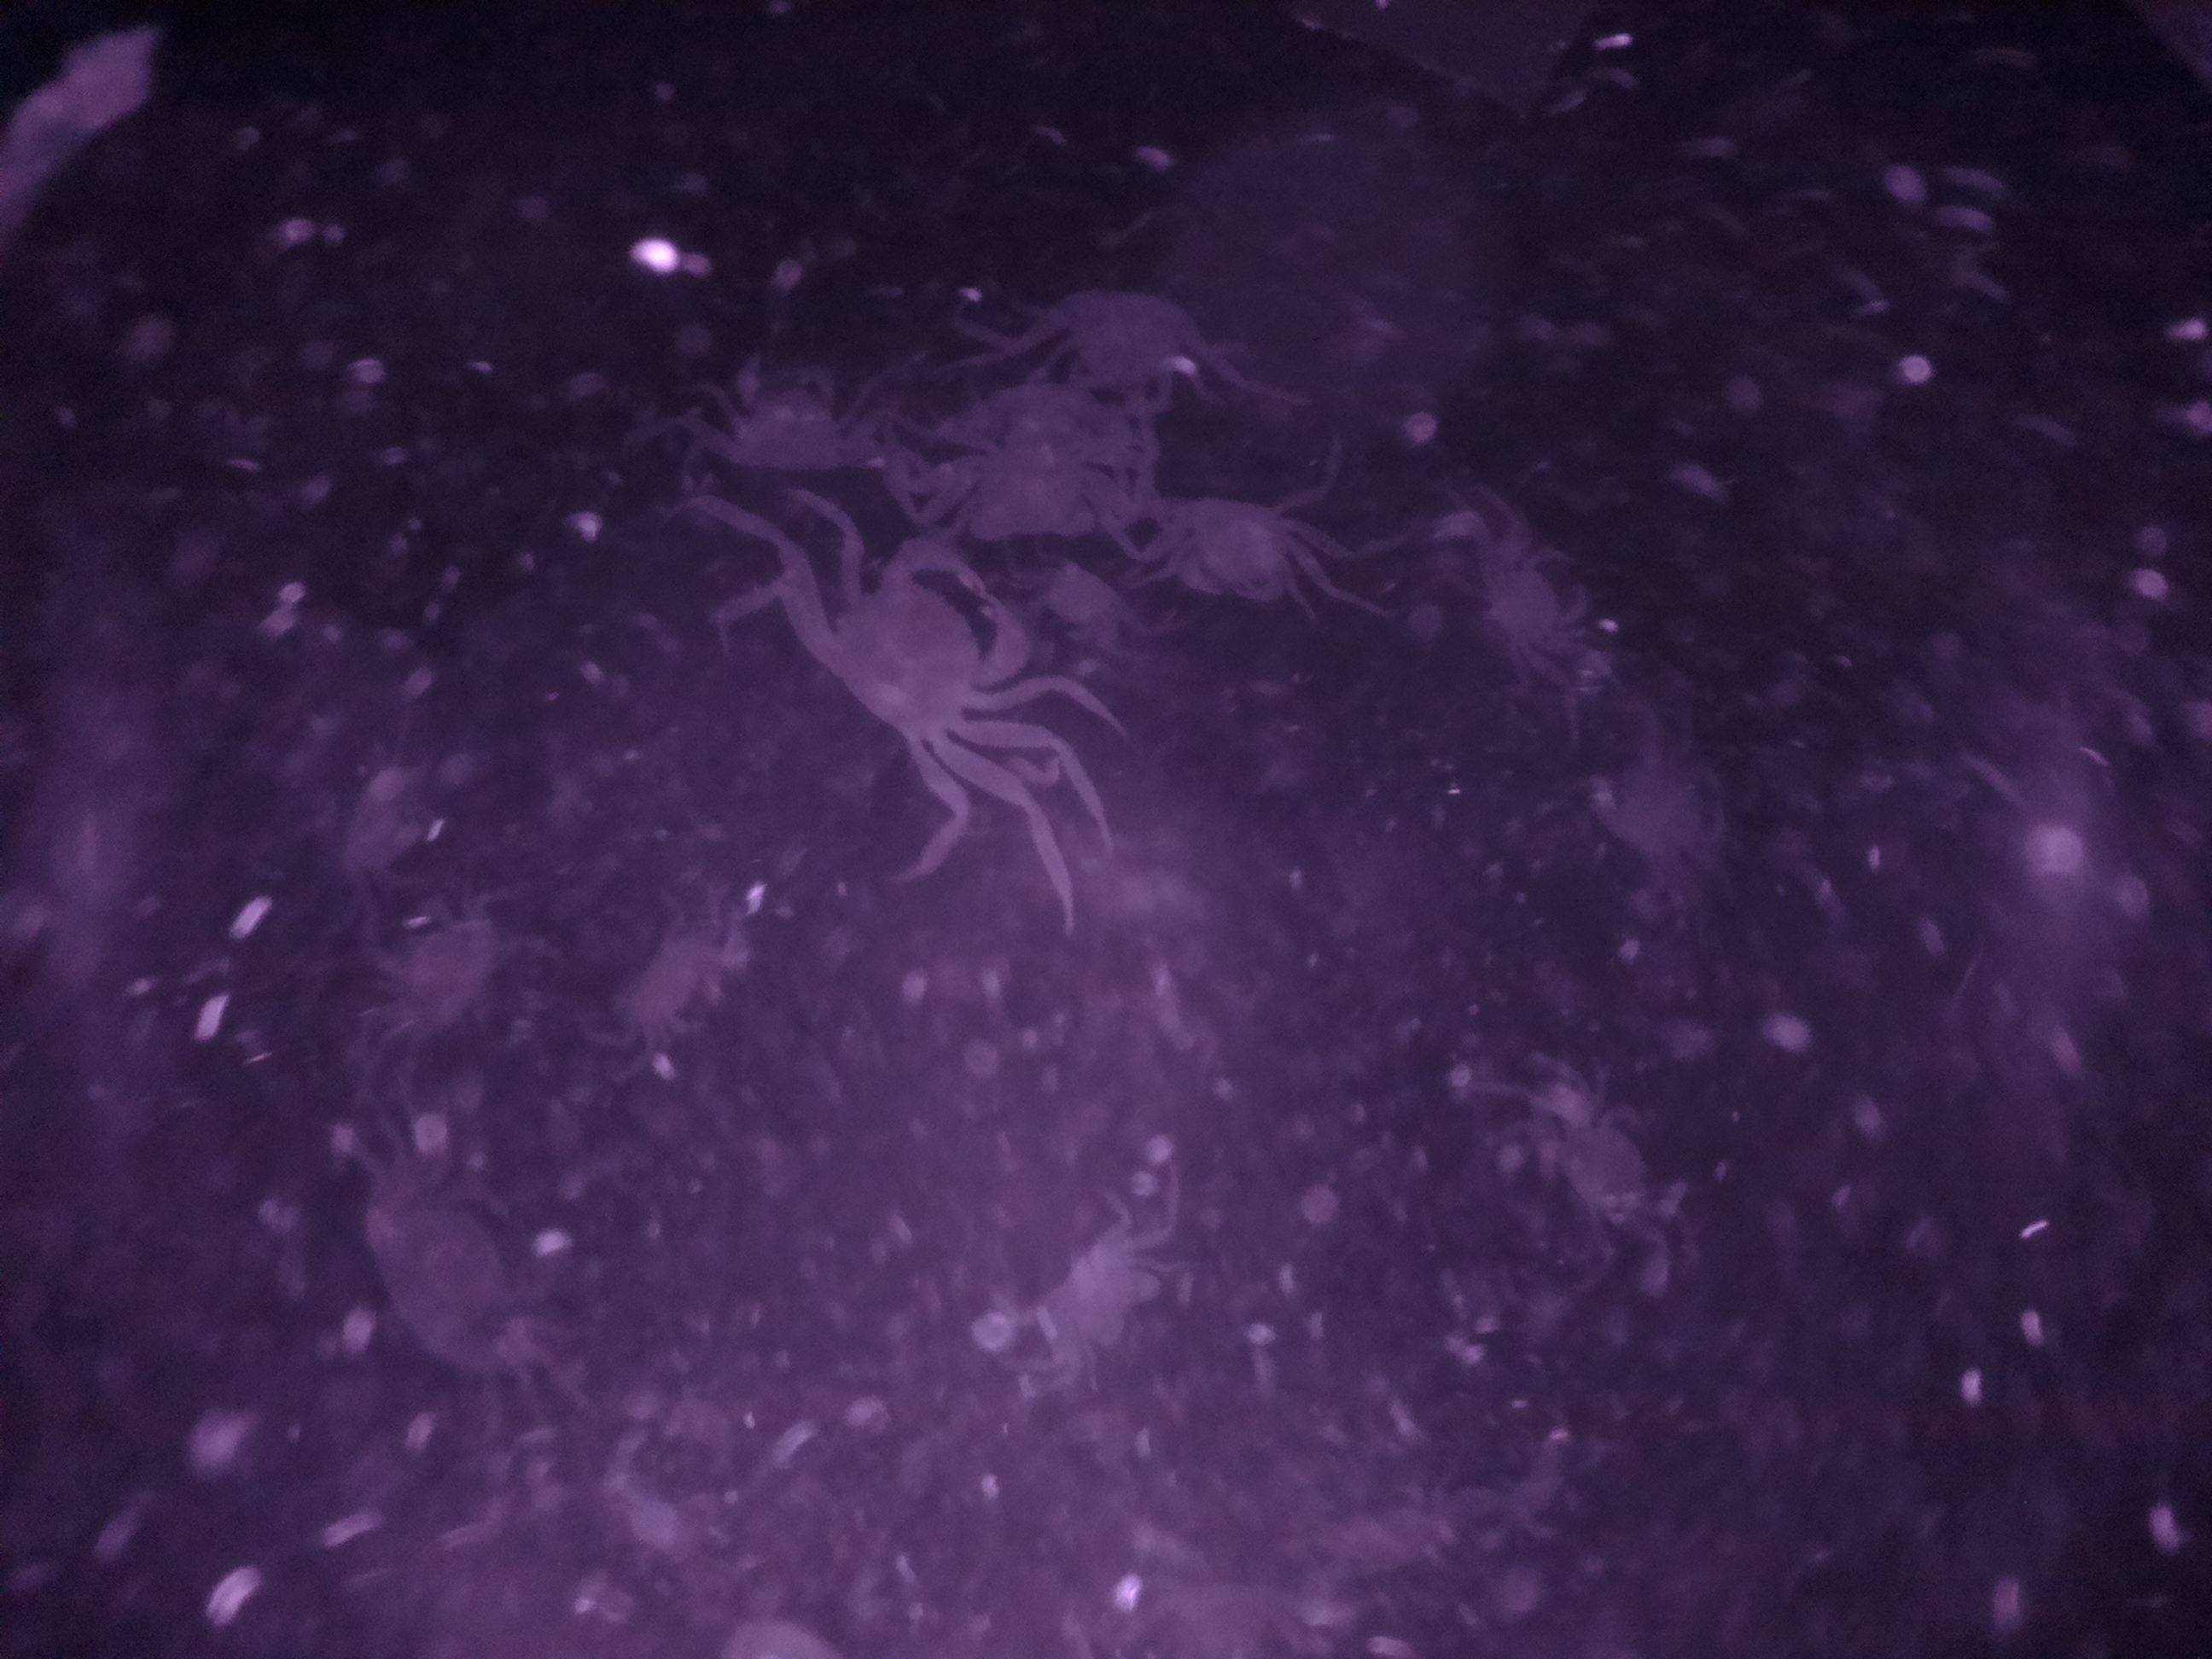Crab: (787, 511, 1049, 800), (1036, 274, 1224, 420), (1148, 474, 1336, 619)
